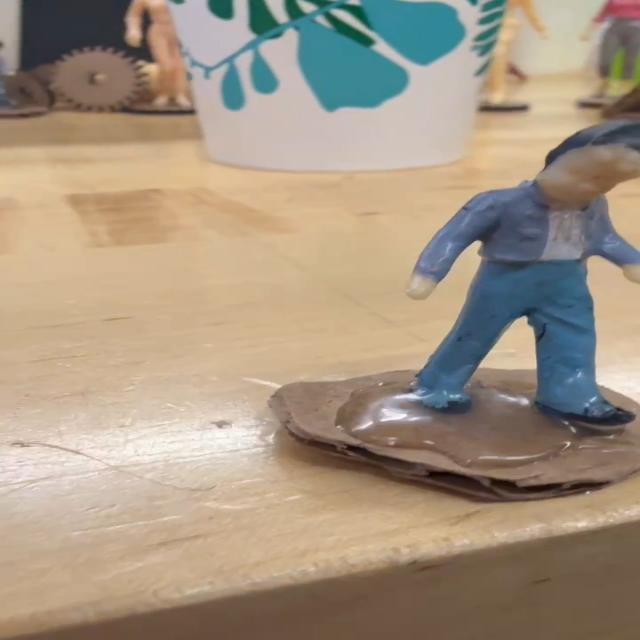Authorized: (391, 86, 640, 436)
